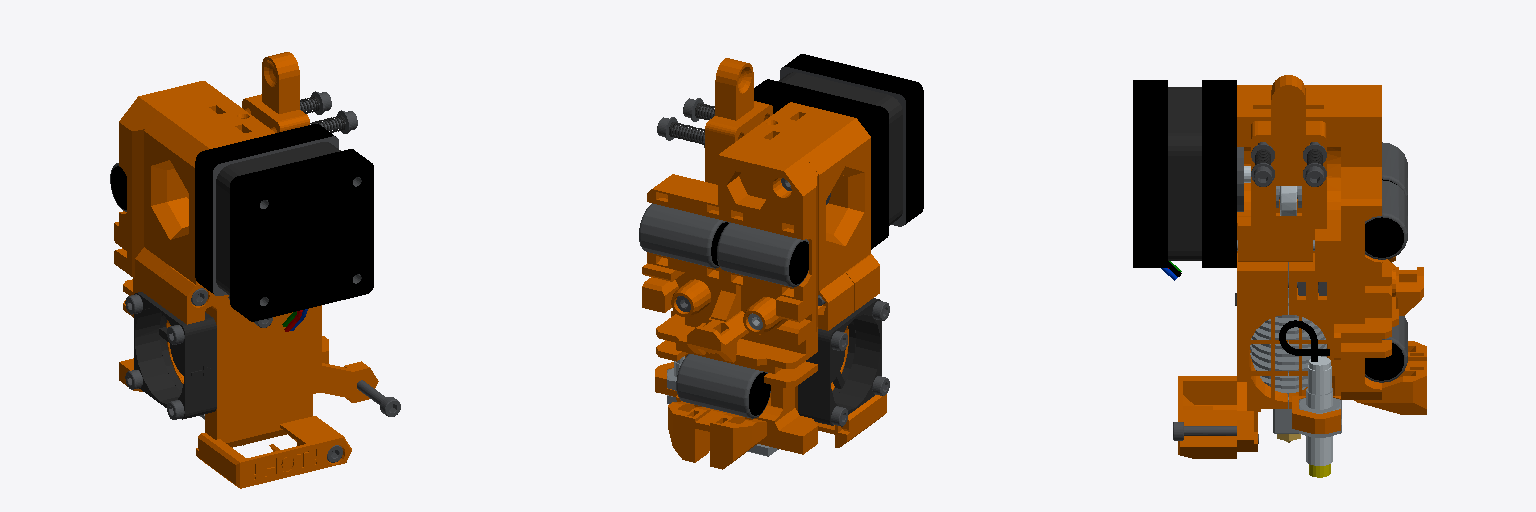
3 views of the same model, side by side, from view 1: azimuth 30°, elevation 25°; view 2: azimuth 150°, elevation 25°; view 3: azimuth 270°, elevation 25° (orthographic).
Visible parts, largest first — view 1: i3_mk2; view 2: i3_mk2; view 3: i3_mk2.
Boxes of the visible parts, x1=… form: i3_mk2: x1=110, y1=52, x2=400, y2=488; i3_mk2: x1=639, y1=54, x2=923, y2=469; i3_mk2: x1=1133, y1=75, x2=1426, y2=477.
Bounding box in the file's own units: 0.0676 × 0.1212 × 0.085.